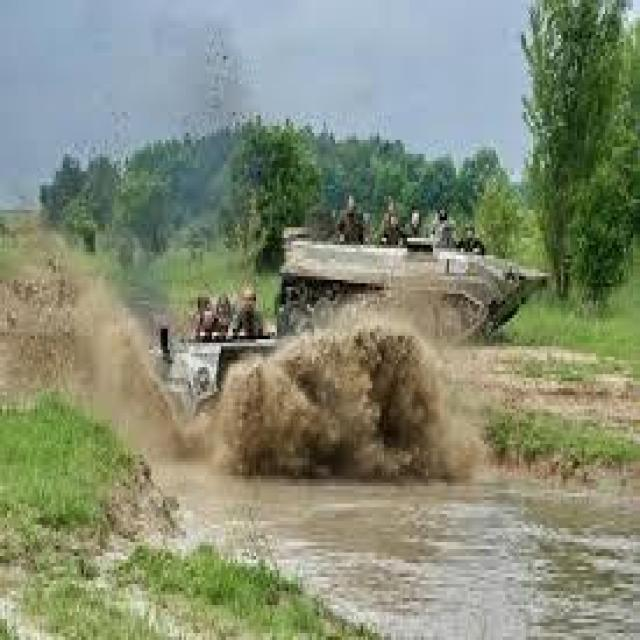MIL_MBT: (237, 140, 561, 385), (145, 257, 320, 495)
